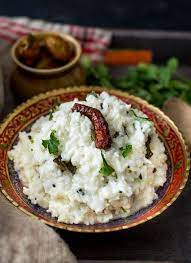curd_rice: (12, 90, 164, 225)
